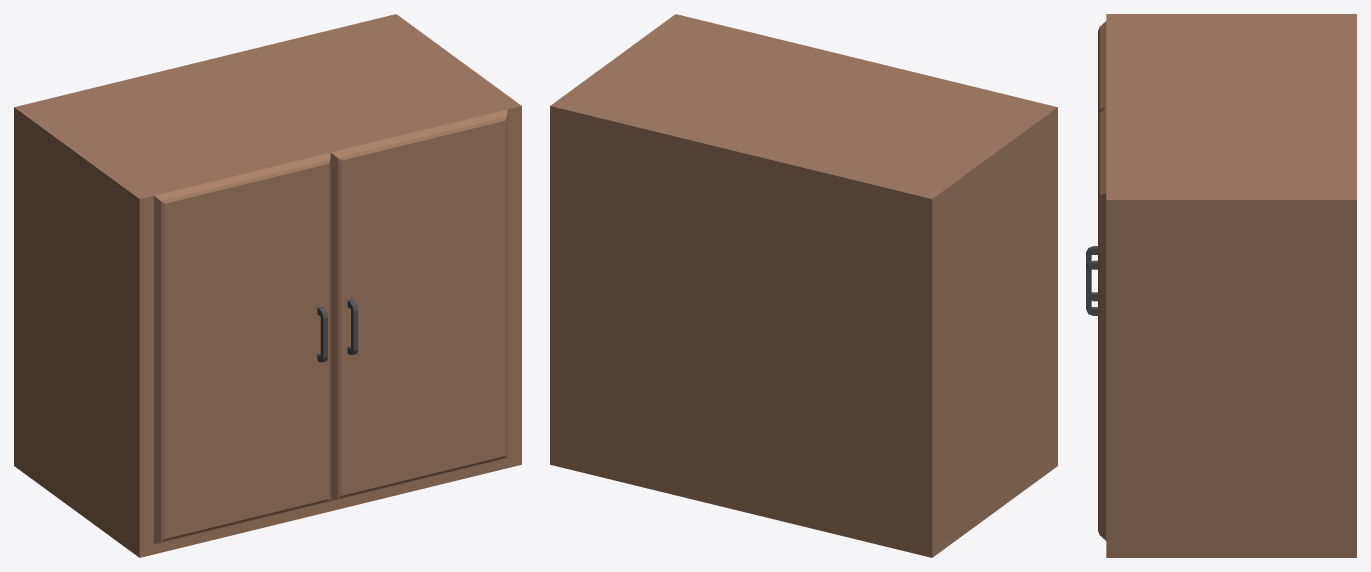
File: Credenza Lavandino.fbx
The picture shows the model from 3 angles, left to right: view 1: azimuth 30°, elevation 25°; view 2: azimuth 150°, elevation 25°; view 3: azimuth 270°, elevation 25°; orthographic projection.
Visible parts, largest first — view 1: polySurface3; view 2: polySurface3; view 3: polySurface3.
Part boxes in pixels (x1,y1,x2,y2): polySurface3: (14, 14, 521, 557); polySurface3: (550, 14, 1057, 557); polySurface3: (1086, 14, 1356, 557).
Size of the model in its own units: 2 by 1.79 by 1.23.
